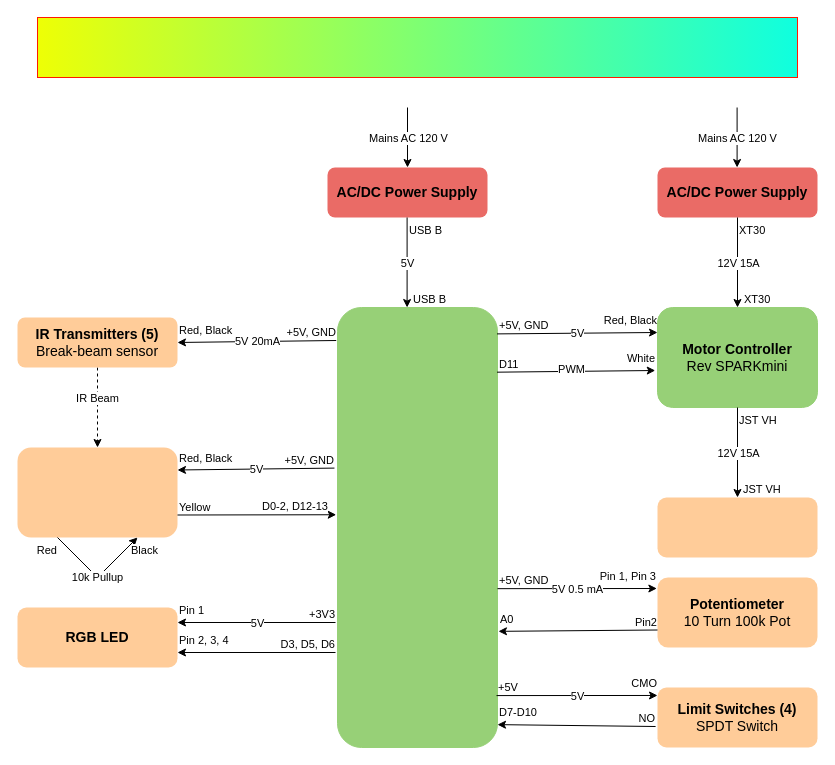
The diagram is 835 pixels wide and 765 high, and some of its shapes have lost their labels. The box of each missing label's shape, as (x1, y1, x2, y2) in pixels:
Controller Arduino UNO Rev3: (336, 306, 498, 748)
Elevator System Design Diagram: (36, 16, 798, 78)
IR Receivers (5) Break-beam sensor: (17, 447, 177, 537)
Motor VEX CIM Motor: (657, 497, 817, 557)
